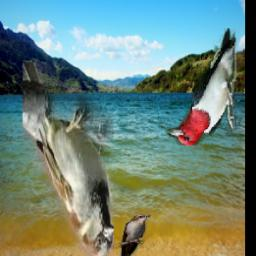Cuckoo: (113, 214, 153, 256)
Sparrow: (24, 62, 115, 256)
Woodpecker: (164, 28, 238, 146)
